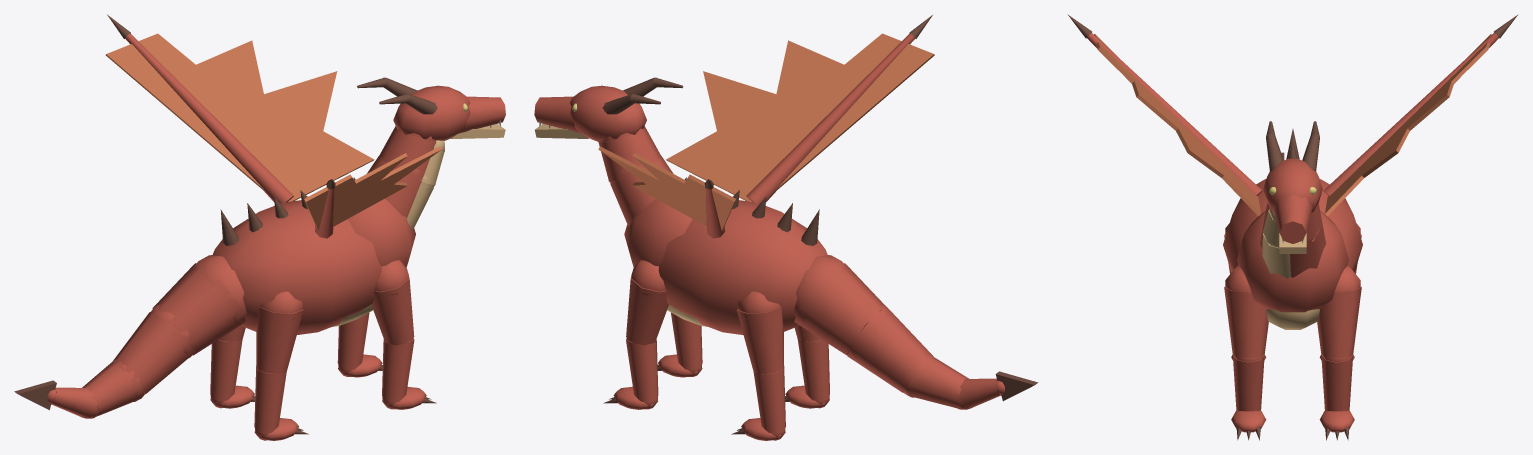
Rendered from enemy_7_red_dragon.glb.
3 renders of one model, left to right at view 1: azimuth 30°, elevation 25°; view 2: azimuth 150°, elevation 25°; view 3: azimuth 270°, elevation 25°, orthographic.
Parts seen in each view (by area): view 1: WingL, Torso, Tail, Head, LegR, ArmR, WingR, LegL, ArmL; view 2: WingR, Torso, Tail, Head, LegL, ArmL, WingL, LegR, ArmR; view 3: Torso, Head, ArmL, ArmR, WingL, WingR.
Boxes of the visible parts, x1,y1,x2,y2 form: WingL: (105, 14, 373, 203); Torso: (212, 177, 415, 334); Tail: (14, 255, 246, 418); Head: (357, 77, 505, 229); LegR: (254, 291, 308, 440); ArmR: (371, 260, 436, 409); WingR: (304, 146, 441, 238); LegL: (210, 325, 255, 408); ArmL: (337, 312, 382, 377); WingR: (666, 15, 934, 203); Torso: (624, 177, 827, 334); Tail: (793, 255, 1038, 409); Head: (534, 77, 683, 226); LegL: (731, 291, 785, 440); ArmL: (603, 260, 668, 409); WingL: (598, 146, 735, 238); LegR: (785, 325, 829, 408); ArmR: (657, 312, 702, 377); Torso: (1223, 129, 1362, 329); Head: (1259, 121, 1326, 278); ArmL: (1317, 265, 1361, 440); ArmR: (1224, 265, 1268, 440); WingL: (1323, 14, 1518, 216); WingR: (1067, 14, 1262, 216).
Bounding box in the file's own units: 4.62 × 3 × 3.67.
